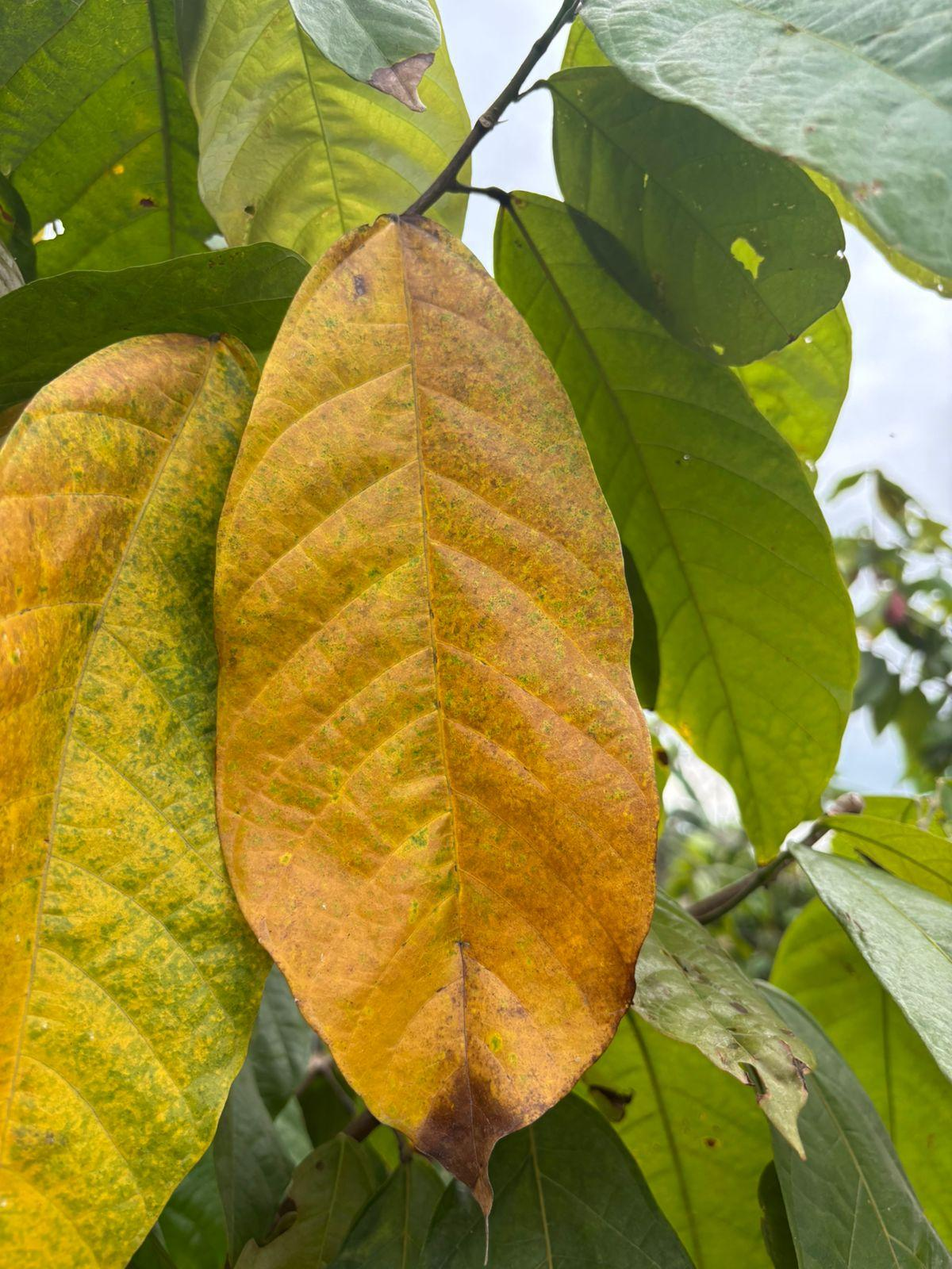Fosforo: (215, 217, 656, 1210)
